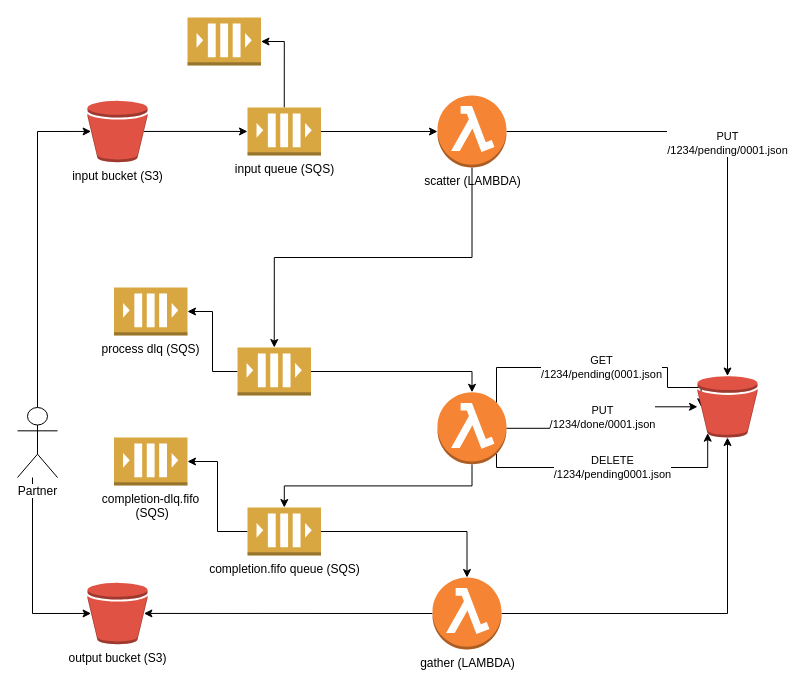
This 805x688 diagram has some shape labels left out. Here are the shapes that lost their labels. From the top down, the centre of each, then its label:
point 223,41: input dlq (SQS)
point 273,371: process queue (SQS)
point 727,406: work bucket (S3)
point 471,427: process (LAMBDA)
